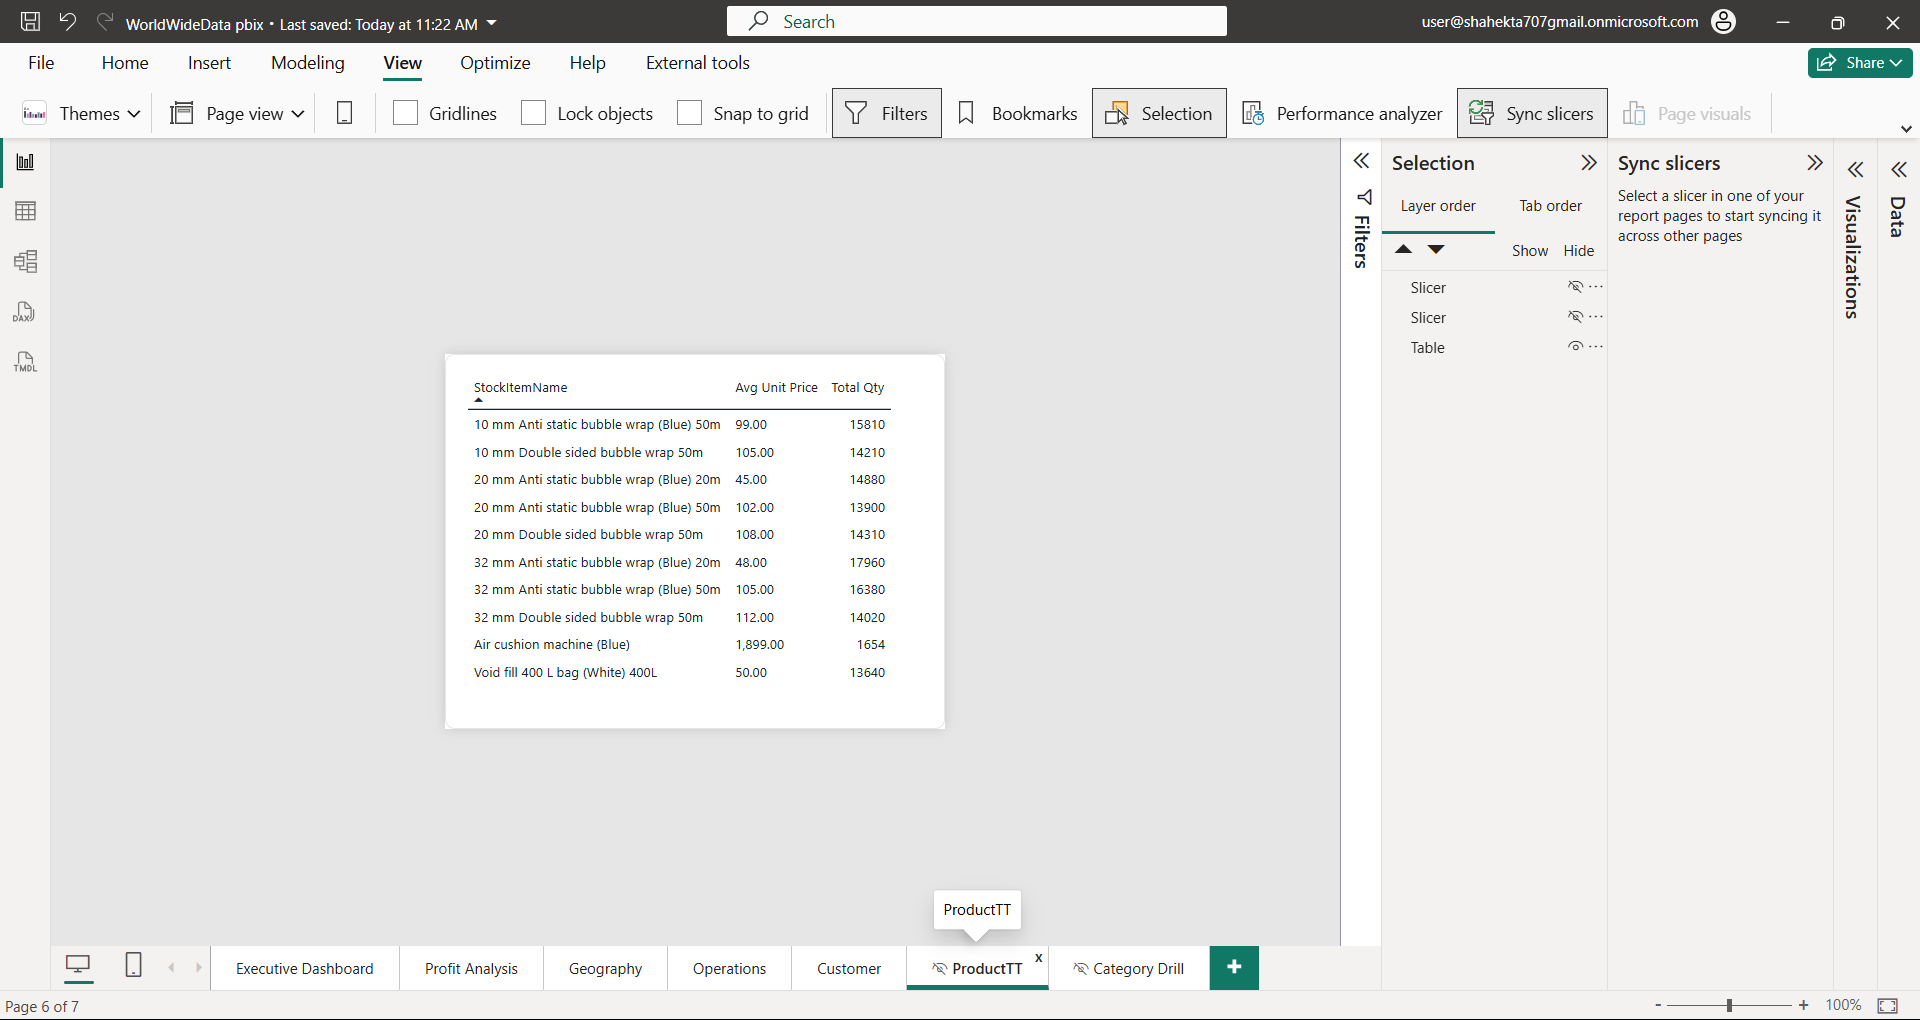

This screenshot's page, from the dashboard's own definition file:
{"tool":"powerbi","page":{"name":"ProductTT","canvas":[400,300],"ordinal":5},"visuals":[{"type":"tableEx","fields":{"Values":["Dim_Product.StockItemName","Avg(Dim_Product.UnitPrice)","Sum(Fact_Sales.Quantity)"]},"box":[0,0,400,300],"z":0}]}

Visuals, with their boxes on the page's 400x300 design canvas (x1, y1, x2, y2). These are canvas units, not pixel positions in the 1920x1020 screenshot, which may show the page scaled, cropped or inside an application window:
tableEx - Dim_Product.StockItemName x Avg(Dim_Product.UnitPrice): 0:0:400:300
